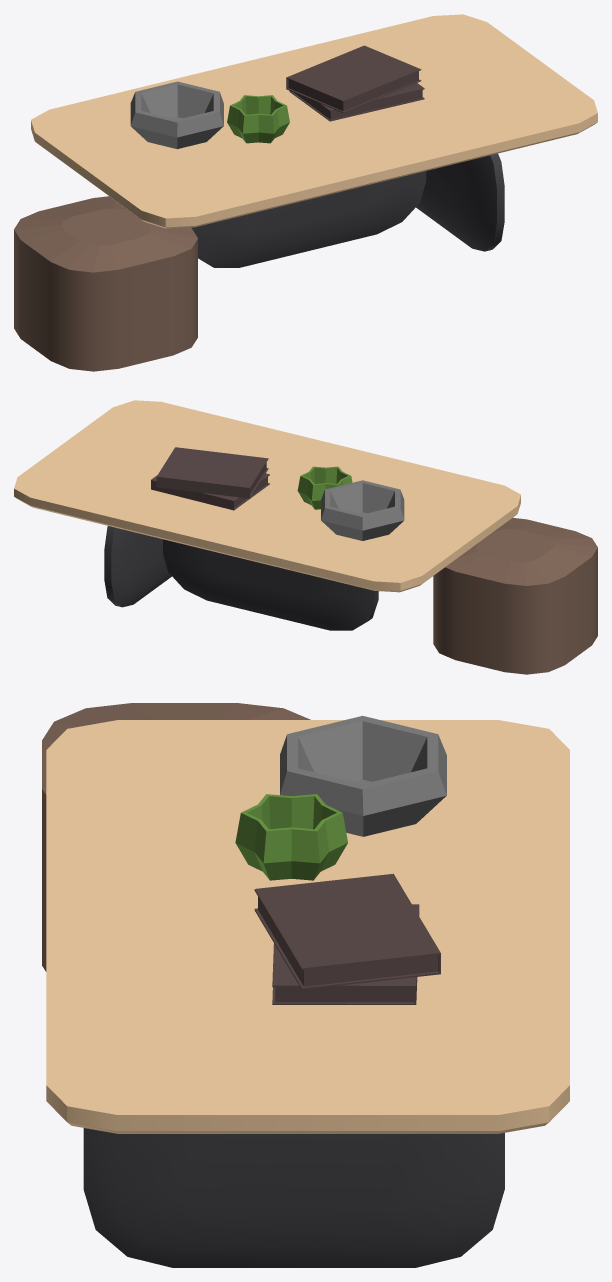
File: CEO_table.FBX
3 renders of one model, top to bottom at view 1: azimuth 30°, elevation 25°; view 2: azimuth 150°, elevation 25°; view 3: azimuth 270°, elevation 25°, orthographic. The views are drawn at different scales.
Visible parts, largest first — view 1: Rectangle001, Rectangle003, Line001, NGon001, Star001; view 2: Rectangle001, Rectangle003, Line001, NGon001, Star001; view 3: Rectangle001, Line001, NGon001, Star001, Rectangle003.
Part boxes in pixels (x1,y1,x2,y2): Rectangle001: [31, 14, 597, 267]; Rectangle003: [14, 196, 197, 371]; Line001: [286, 45, 424, 121]; NGon001: [130, 81, 223, 149]; Star001: [227, 95, 289, 143]; Rectangle001: [14, 400, 520, 630]; Rectangle003: [433, 518, 597, 674]; Line001: [151, 447, 269, 510]; NGon001: [321, 480, 404, 540]; Star001: [297, 466, 352, 509]; Rectangle001: [46, 720, 569, 1267]; Line001: [254, 873, 440, 1004]; NGon001: [280, 715, 446, 836]; Star001: [235, 794, 347, 880]; Rectangle003: [42, 703, 310, 971].
Bounding box in the file's own units: 188 × 55.57 × 89.35.
